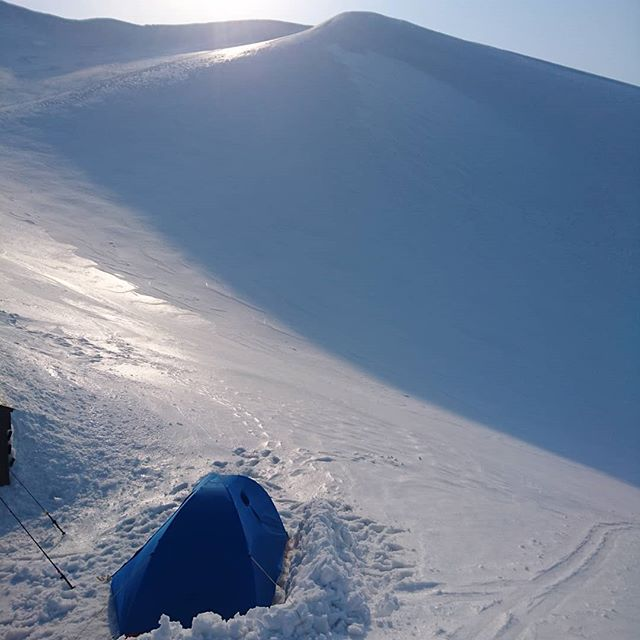mountain: (20, 1, 640, 212)
sky: (15, 1, 627, 79)
tent: (89, 429, 311, 640)
